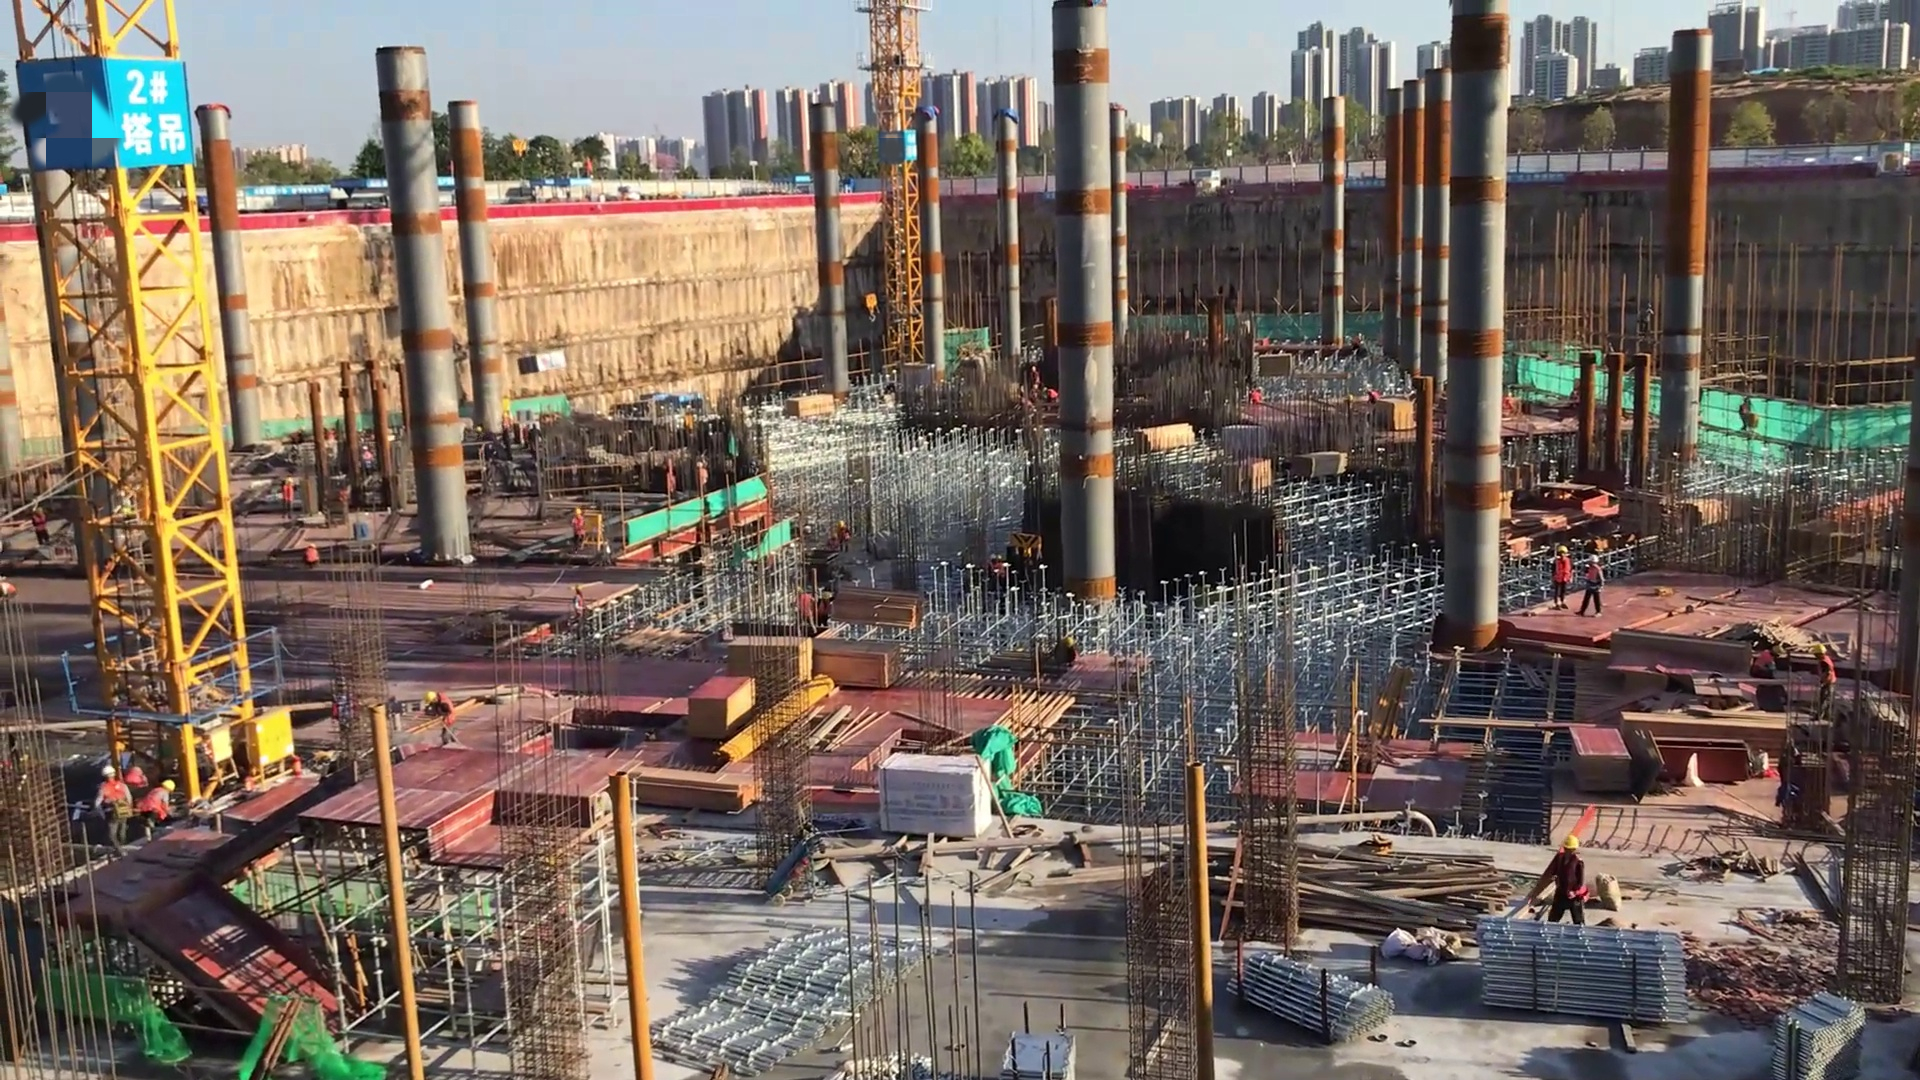board: (1571, 723, 1631, 800), (686, 675, 755, 738), (730, 635, 808, 692), (1379, 397, 1417, 431)
ebox: (241, 708, 295, 795), (197, 718, 235, 786), (583, 506, 607, 551)
helmet: (1555, 830, 1585, 857), (1806, 640, 1833, 662), (158, 776, 180, 797), (1768, 641, 1788, 659), (426, 685, 439, 707), (103, 765, 119, 783), (1584, 554, 1599, 565), (1555, 543, 1567, 555), (573, 506, 584, 520), (835, 518, 847, 528), (1364, 385, 1373, 394)
hook: (1008, 526, 1059, 567), (854, 282, 886, 330), (509, 136, 533, 164)
hopper: (517, 344, 565, 381)
person: (1533, 822, 1599, 938), (421, 686, 471, 753), (96, 763, 130, 850), (134, 779, 181, 837), (1807, 643, 1839, 724), (1543, 541, 1573, 620), (1581, 554, 1607, 627), (1748, 637, 1783, 687), (797, 584, 820, 640), (110, 754, 148, 789), (569, 503, 590, 556), (276, 477, 297, 527), (32, 504, 54, 548), (1247, 382, 1277, 417), (830, 514, 854, 553), (572, 582, 590, 631), (299, 539, 324, 572), (693, 457, 712, 498), (1, 572, 20, 604), (1364, 384, 1384, 408), (359, 443, 374, 475), (1030, 361, 1042, 389), (1042, 385, 1059, 400)
scaffold: (1466, 912, 1688, 1035), (1223, 949, 1394, 1036), (1771, 992, 1878, 1080)
slogan: (86, 55, 200, 152), (1503, 170, 1569, 184), (1345, 177, 1390, 190)
vest: (1551, 857, 1586, 911), (139, 785, 172, 821), (97, 781, 128, 814), (1816, 656, 1839, 689), (1584, 561, 1604, 599), (1553, 556, 1571, 585), (1756, 651, 1776, 675), (280, 483, 295, 512), (306, 548, 318, 565)
wood: (1305, 851, 1501, 930), (1614, 708, 1790, 764), (620, 769, 758, 814), (809, 635, 901, 691), (831, 588, 923, 633), (1133, 420, 1199, 459), (783, 388, 844, 428), (1290, 447, 1347, 483)
